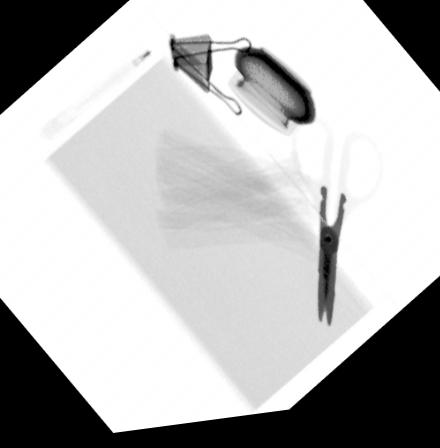Scissors: (295, 135, 377, 338)
